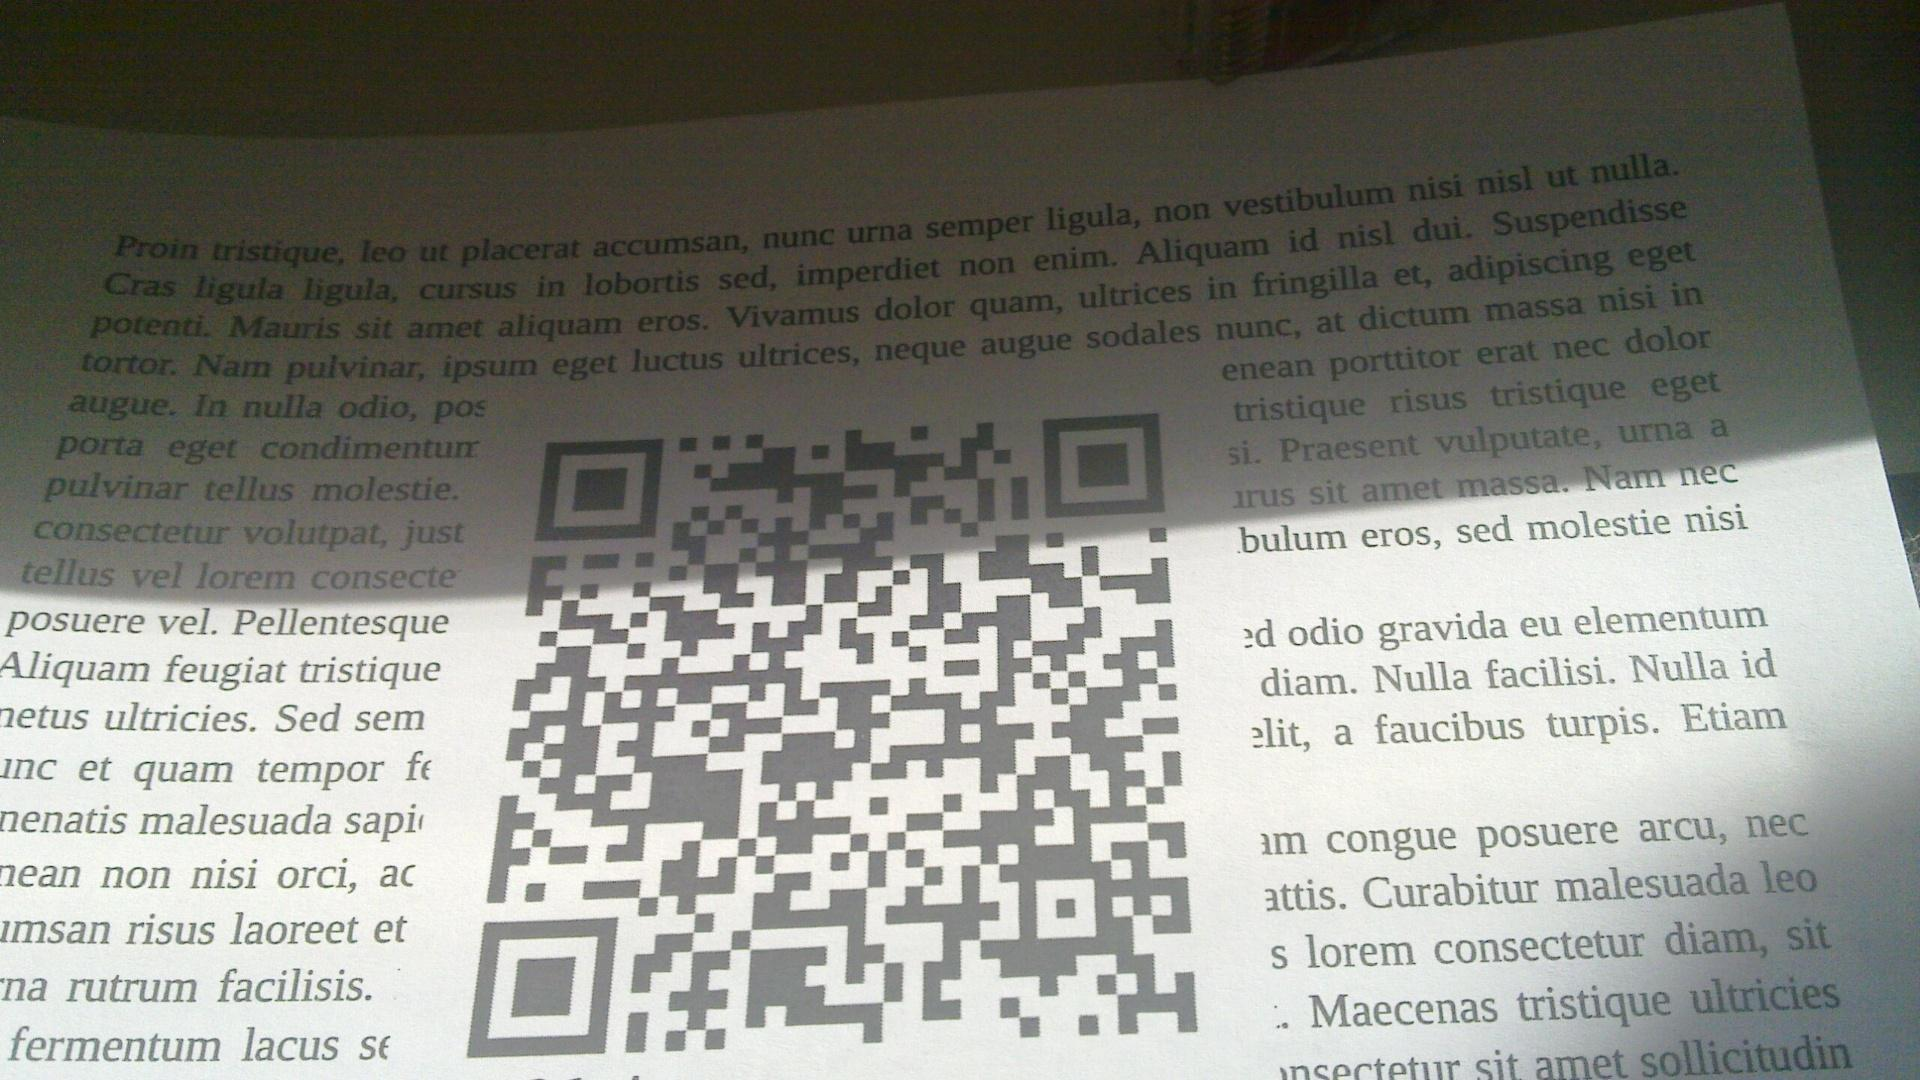qr_code: (464, 411, 1201, 1059)
